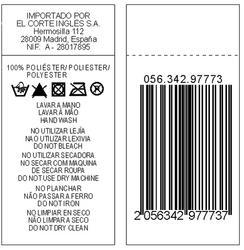do_not_bleach: (30, 83, 48, 98)
do_not_iron: (69, 81, 87, 97)
